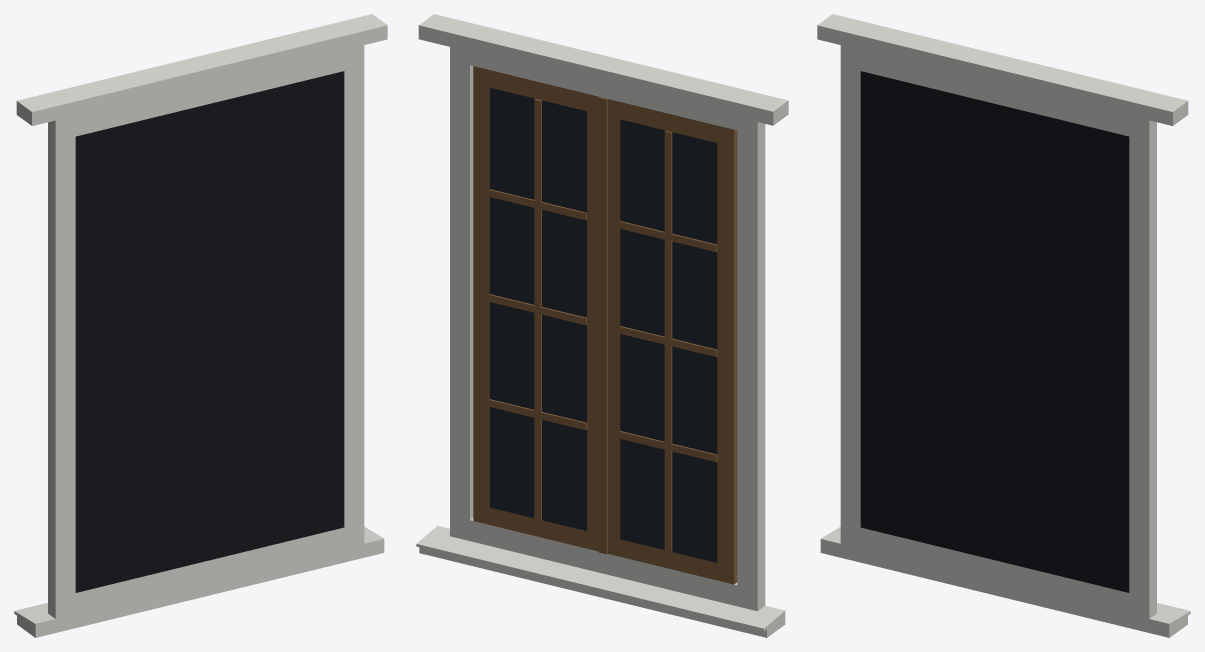
The model's file is french_door.obj.
3 views of the same model, side by side, from view 1: azimuth 30°, elevation 25°; view 2: azimuth 150°, elevation 25°; view 3: azimuth 330°, elevation 25° (orthographic).
Parts seen in each view (by area): view 1: french_door; view 2: french_door; view 3: french_door.
Boxes of the visible parts, bbox=[...] form: french_door: bbox=[14, 14, 387, 637]; french_door: bbox=[416, 14, 788, 637]; french_door: bbox=[817, 14, 1190, 637].
Size of the model in its own units: 2.12 by 3 by 0.22.
